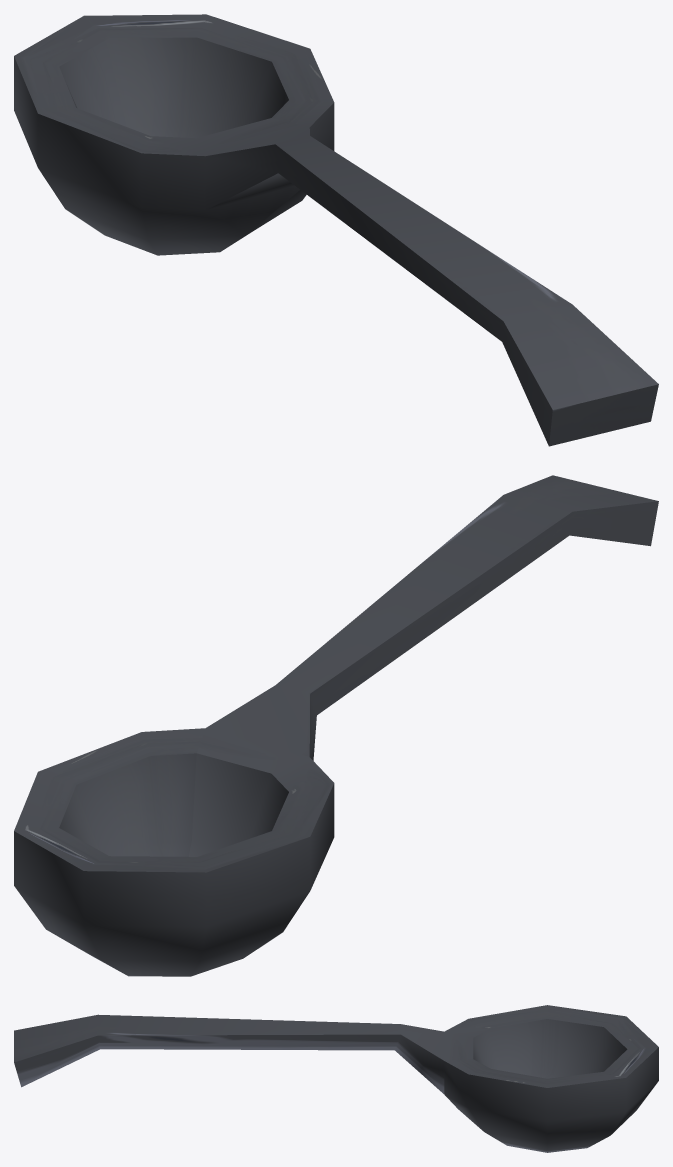
The model's file is SM_PROP_spoon_dungeon_02.fbx.
3 views of the same model, one above another, from view 1: azimuth 30°, elevation 25°; view 2: azimuth 150°, elevation 25°; view 3: azimuth 270°, elevation 25° (orthographic). The views are drawn at different scales.
Parts seen in each view (by area): view 1: SM_PROP_spoon_dungeon_02; view 2: SM_PROP_spoon_dungeon_02; view 3: SM_PROP_spoon_dungeon_02.
Part boxes in pixels (bbox=[...]): SM_PROP_spoon_dungeon_02: bbox=[14, 14, 658, 446]; SM_PROP_spoon_dungeon_02: bbox=[14, 475, 658, 976]; SM_PROP_spoon_dungeon_02: bbox=[14, 1005, 658, 1152].
Size of the model in its own units: 5.38 by 3.5 by 17.87.
